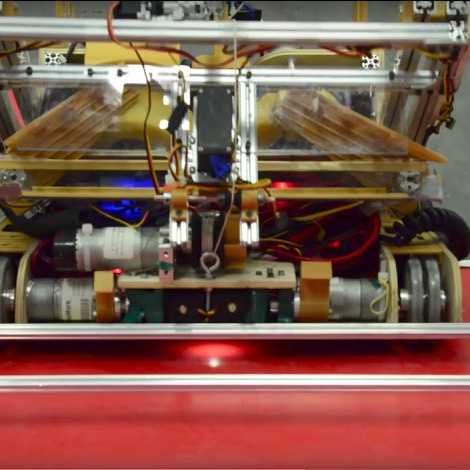robot: (0, 1, 470, 338)
